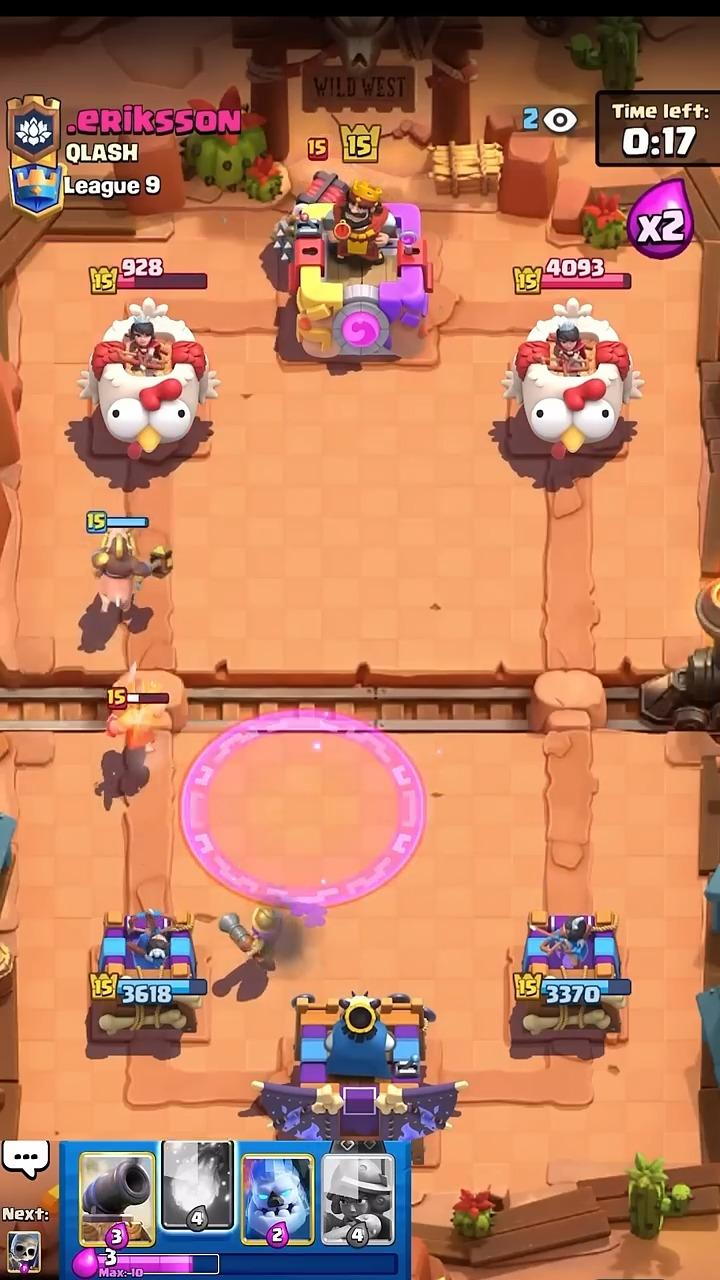elite barbarians: (107, 703, 159, 750)
hog rider: (92, 528, 171, 627)
musketeer: (219, 906, 282, 972)
rage: (181, 709, 425, 907)
sparky: (272, 171, 348, 260), (308, 215, 319, 229)
